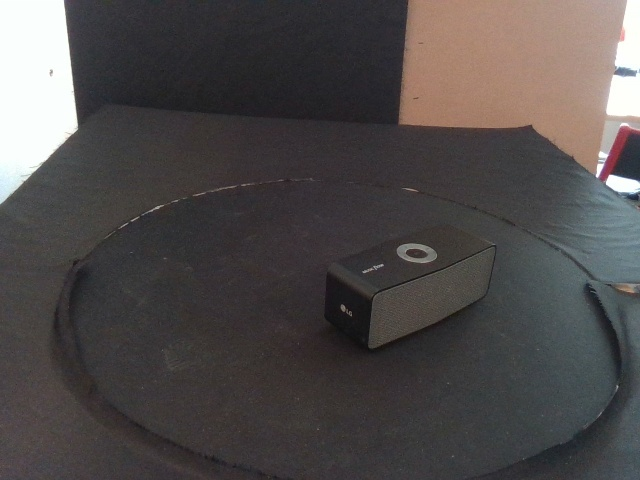speaker: (323, 224, 497, 349)
